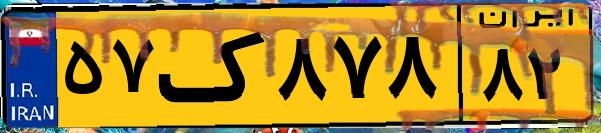2: (525, 38, 570, 115)
5: (57, 26, 110, 100)
7: (330, 28, 385, 110), (110, 28, 158, 98)
8: (270, 28, 330, 110), (385, 28, 445, 110), (475, 38, 525, 113)
ک: (158, 12, 270, 120)
